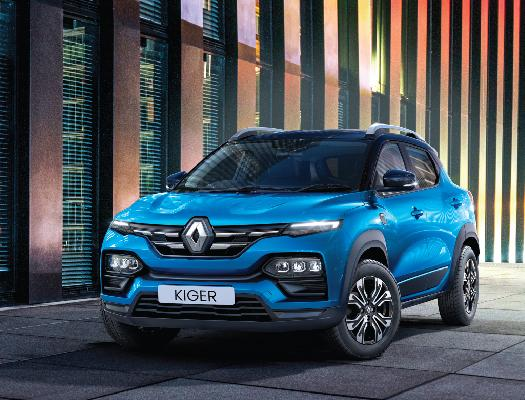Renault: (177, 213, 218, 261)
